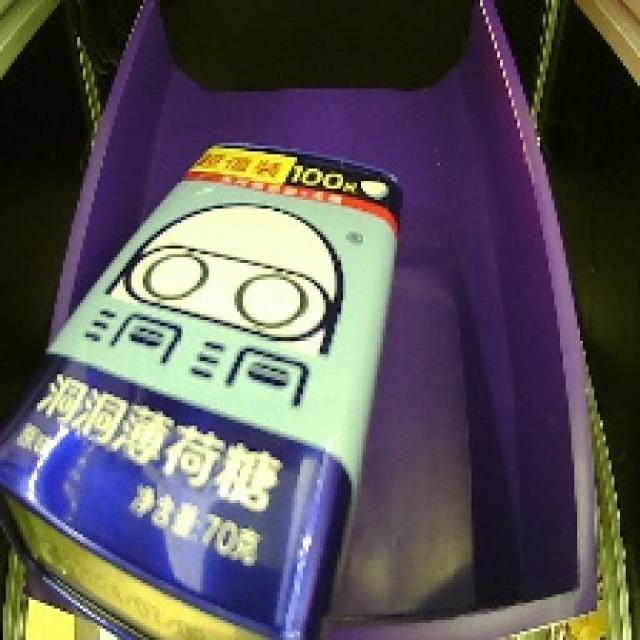metal: (0, 120, 411, 640)
